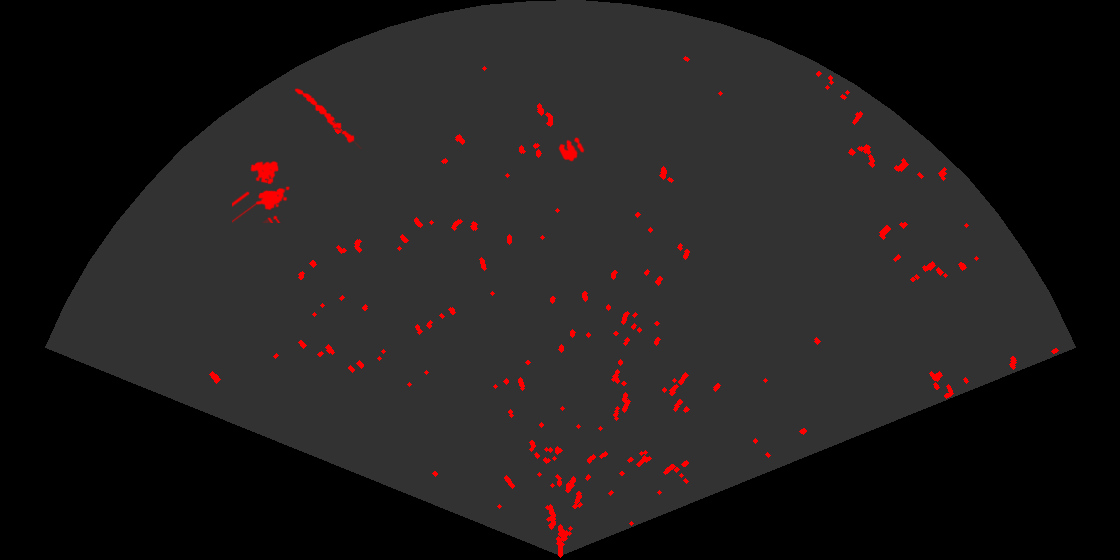ball: (557, 136, 586, 163)
cage: (232, 159, 292, 223)
chain: (293, 87, 364, 149)
